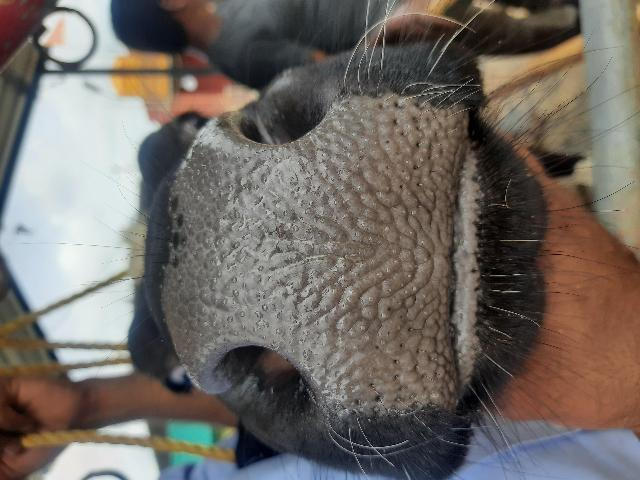Muzzle: (181, 150, 441, 350)
